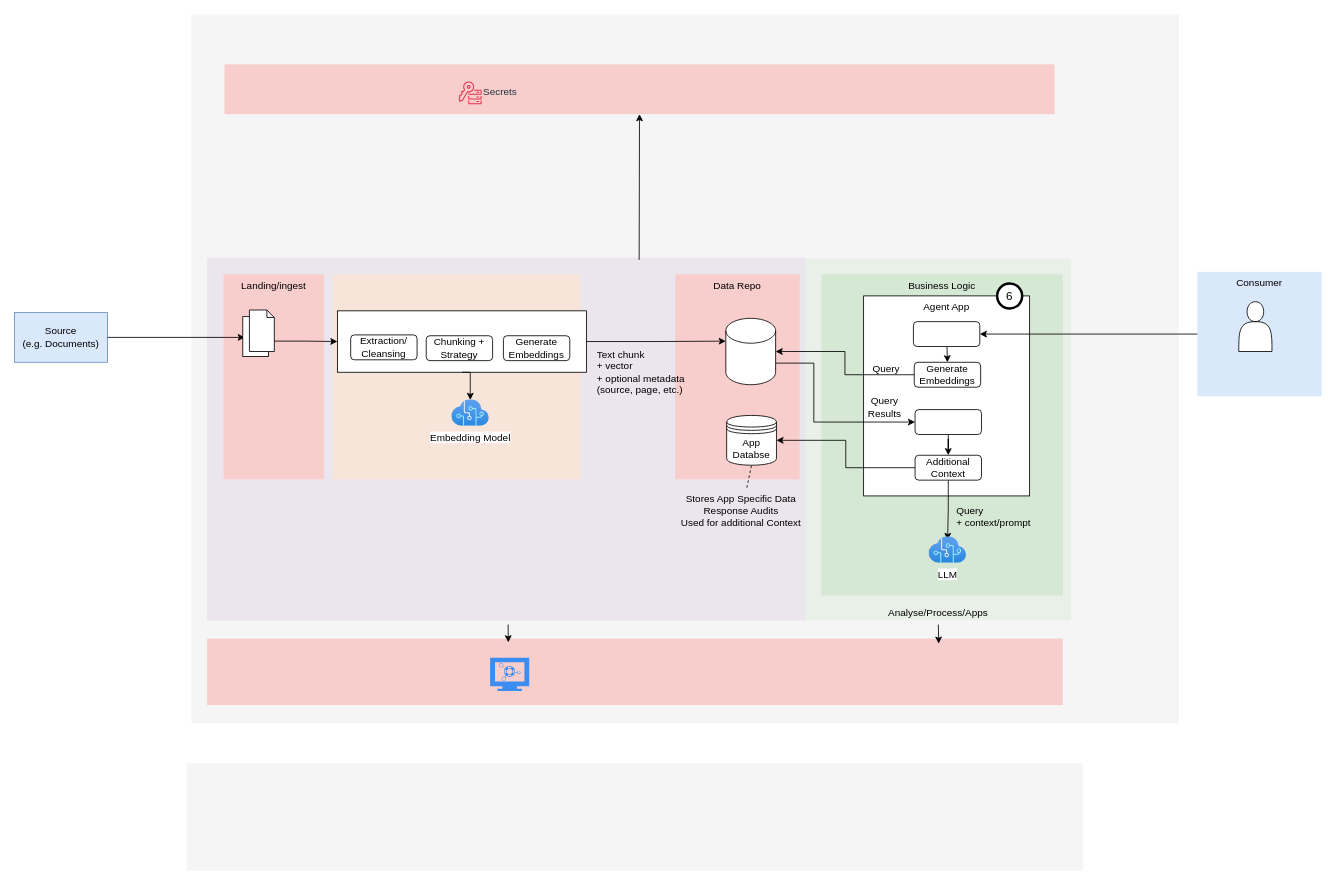
Some shapes in this 1336 by 885 pixel diagram are drawn without their labels. The shapes that lost their labels are listed below. From the top down, each one's box as (x1, y1, x2, y2) in pixels, then its label:
(224, 64, 1054, 114): Security
(337, 310, 586, 372): Ingestion Pipeline
(725, 317, 776, 385): Vector DB
(913, 321, 980, 347): User Query
(332, 274, 580, 479): Prepare (optional)
(207, 257, 805, 620): Acquire/Ingest
(914, 409, 981, 435): Context
(207, 638, 1062, 705): Logging Monitoring/Alerts/Audit
